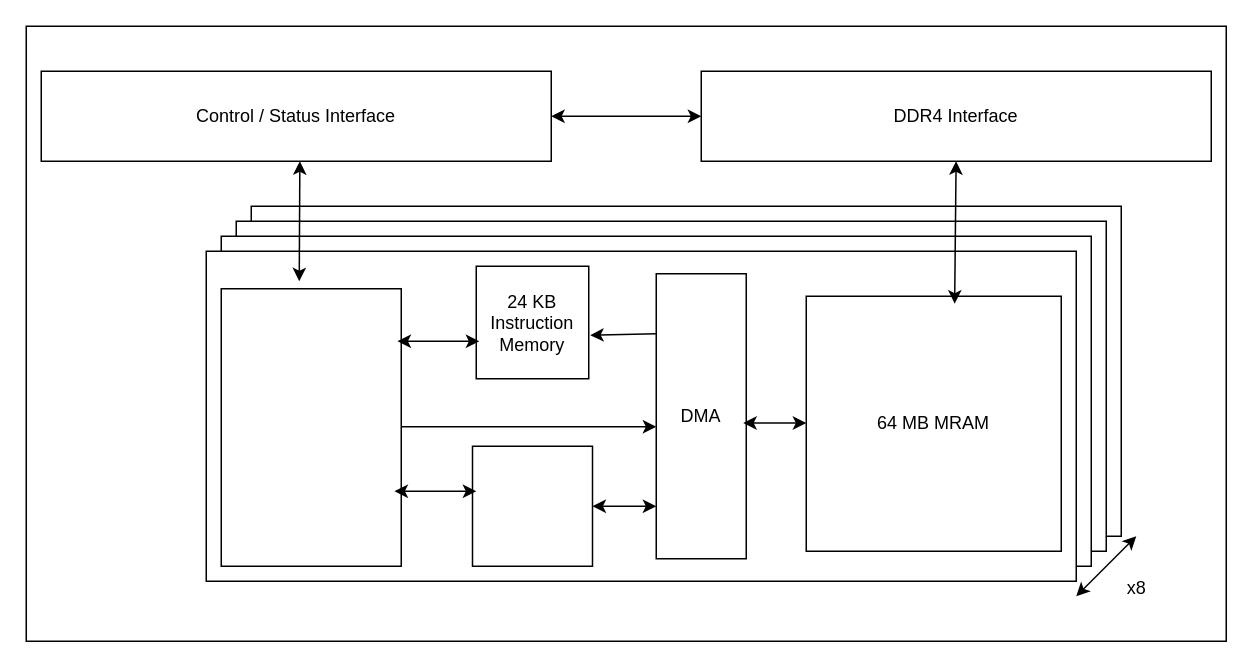
This 1253x668 diagram has some shape labels left out. The shapes that lost their labels are listed below. From the top down, each one's centre as x and y in pixels, then its label:
(x=310, y=426): Pipeline
(x=531, y=505): 64 KB WRAM
